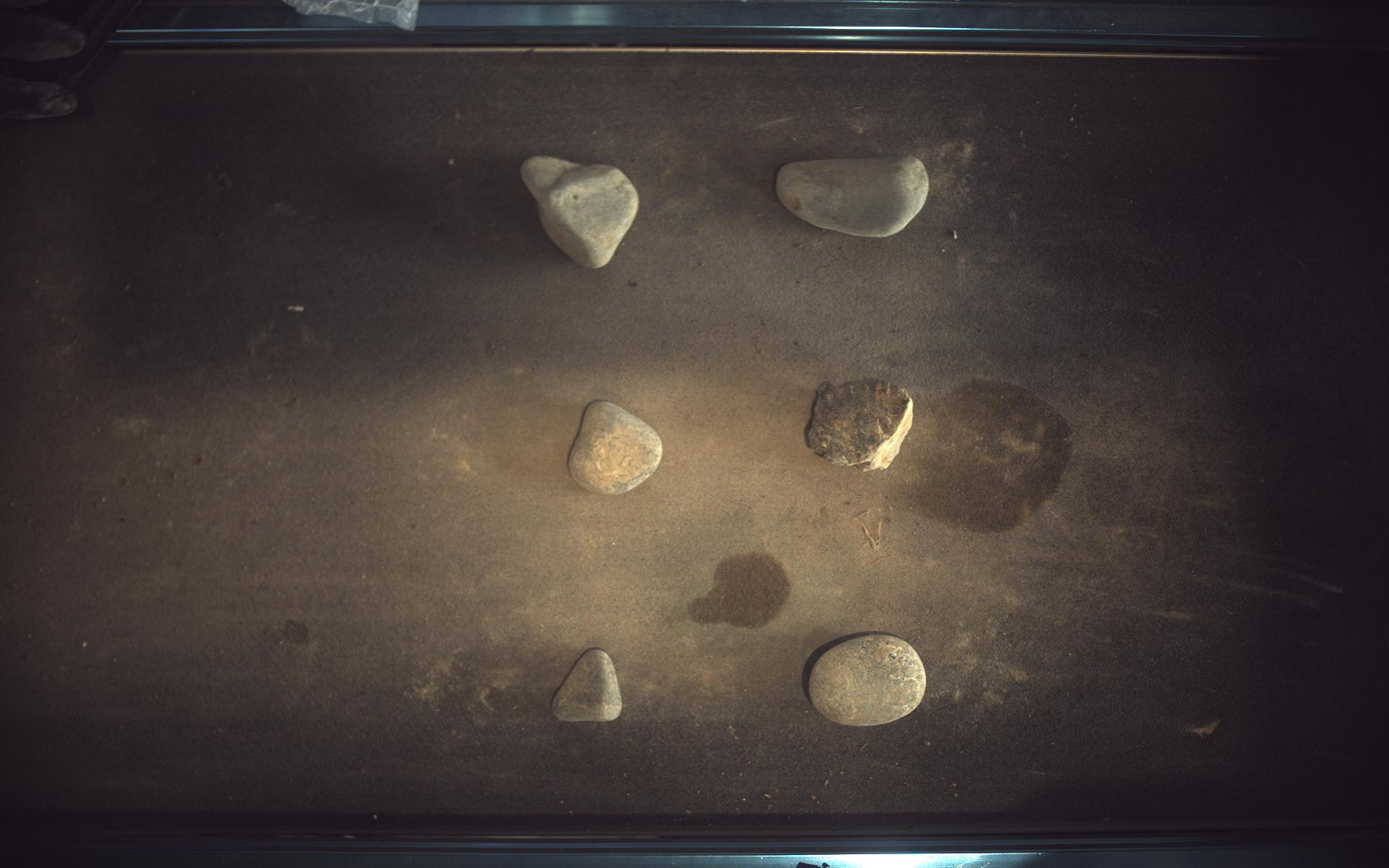stone: (522, 155, 640, 268), (777, 155, 930, 237), (811, 634, 928, 728), (807, 379, 914, 471), (569, 401, 663, 495), (553, 650, 622, 723)
